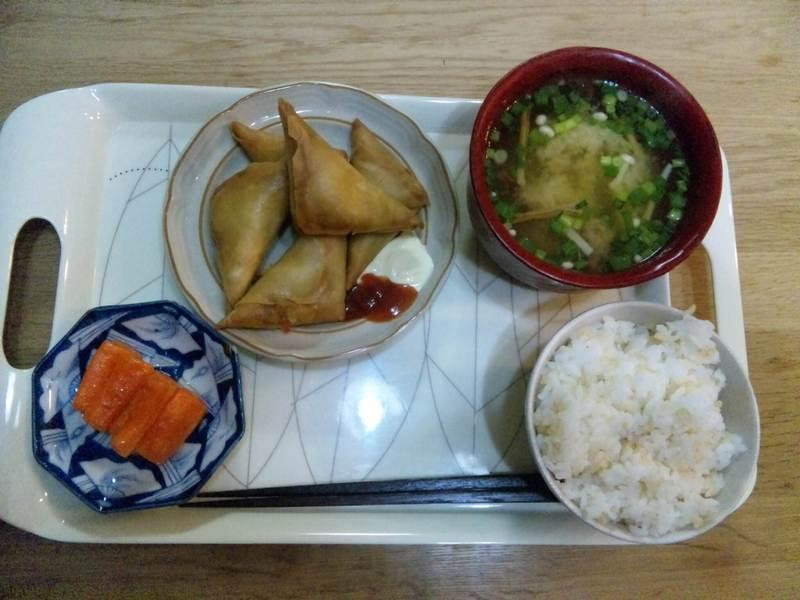plate: (525, 301, 759, 544)
rice: (534, 317, 742, 536)
